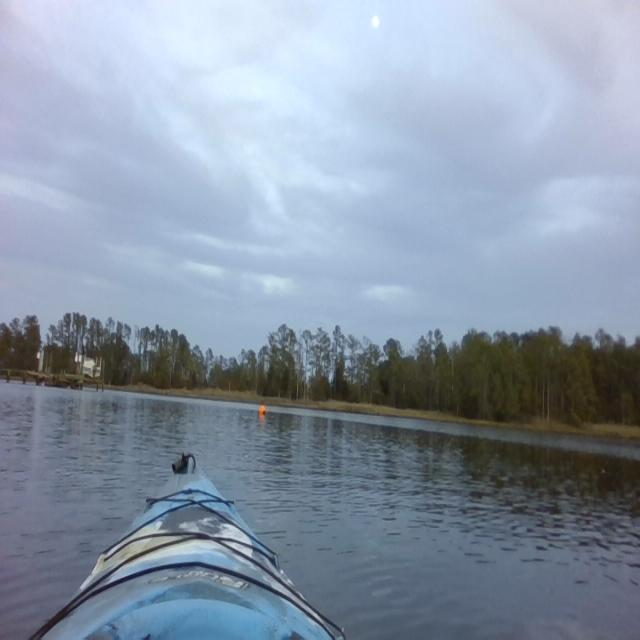Buoy: (258, 400, 267, 422)
